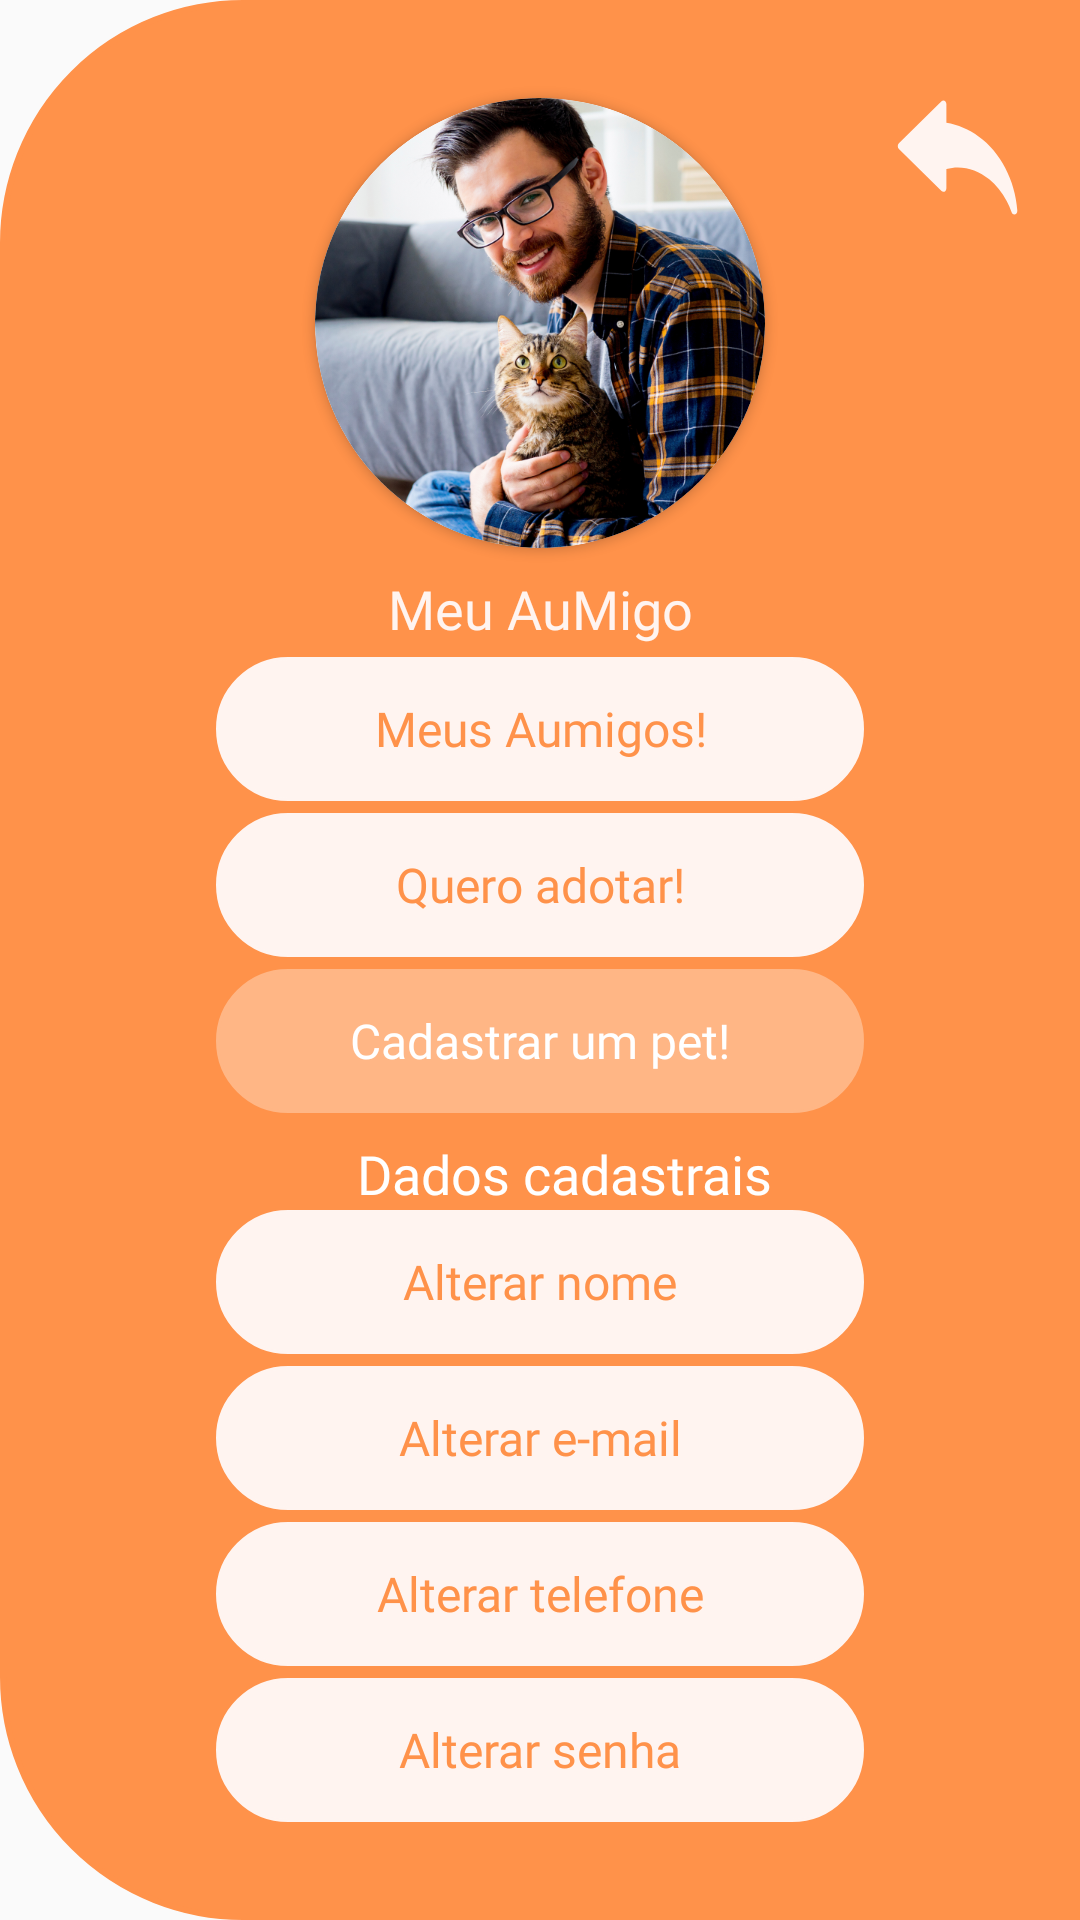

Where to tap for icons on this 1080x1920 app screen, as (x,y):
back: (957,157)
